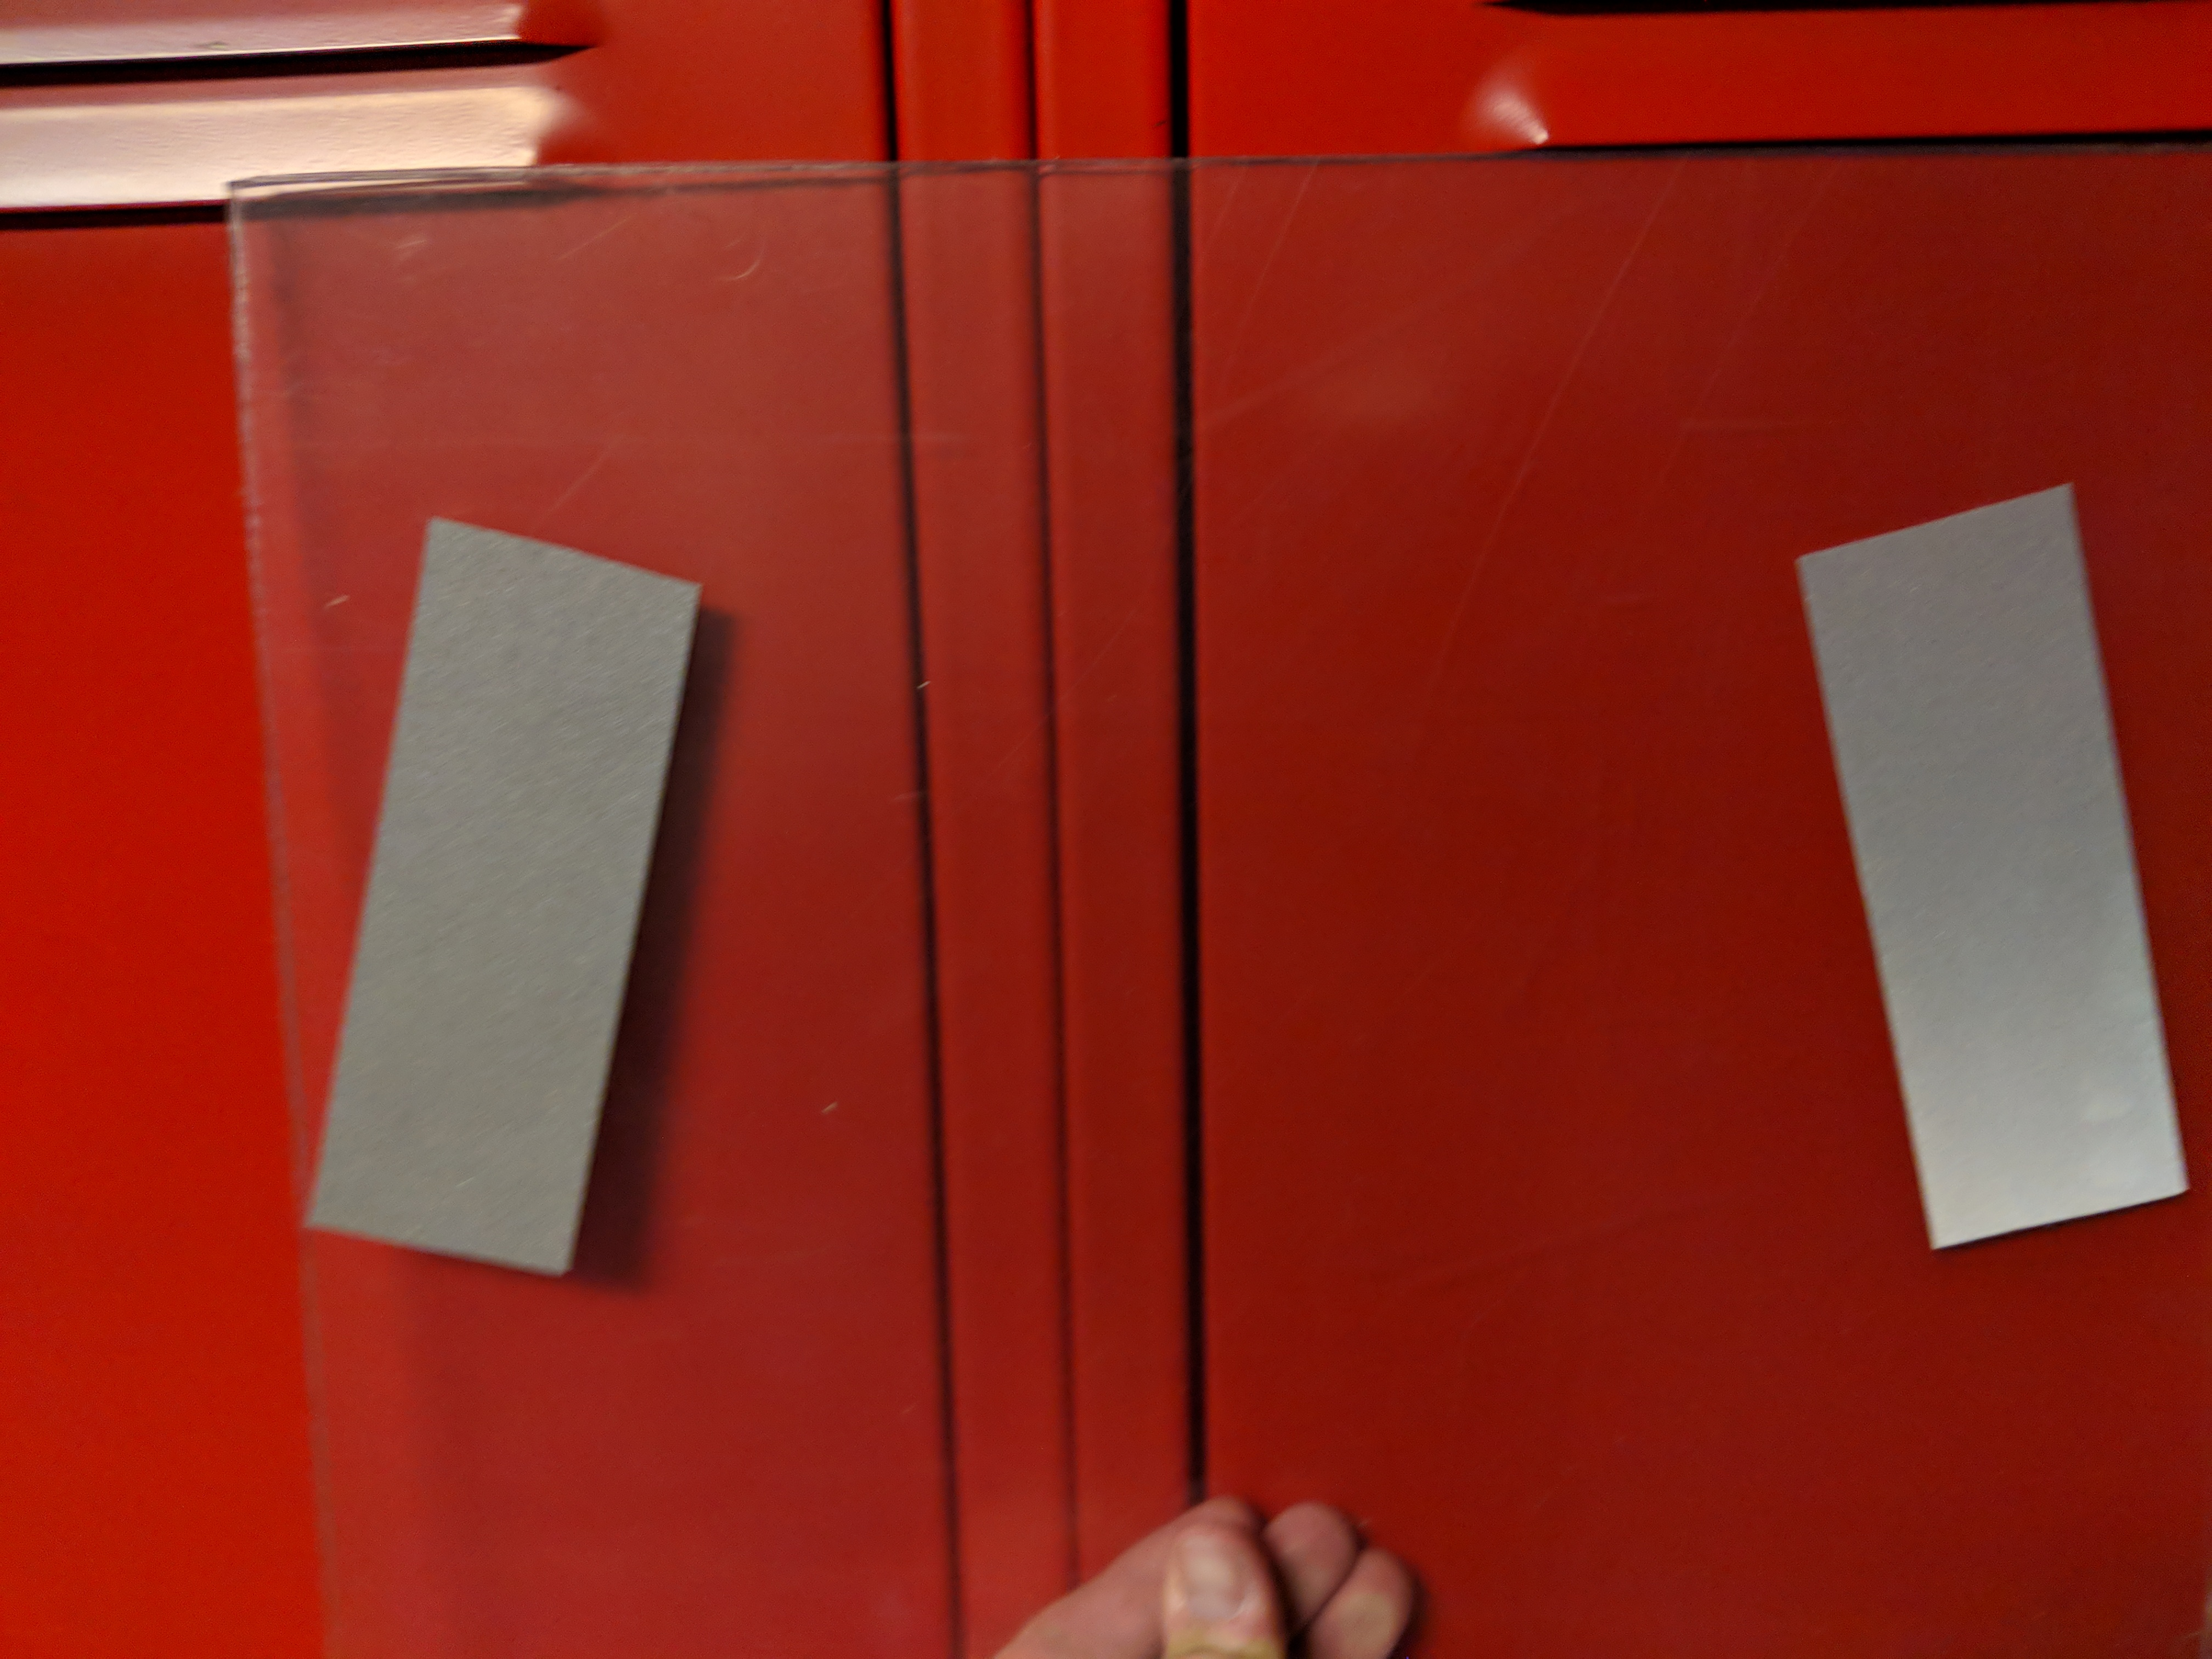vision_target: (294, 471, 2191, 1291)
